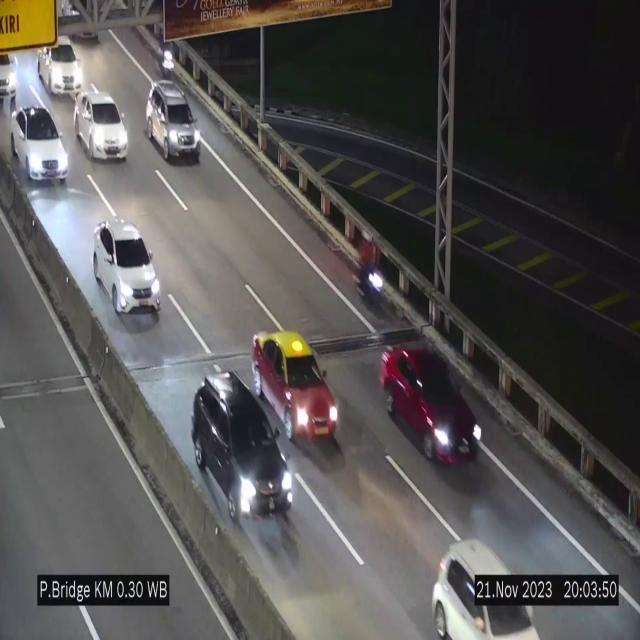Car: (415, 514, 549, 640), (186, 378, 290, 526), (379, 348, 484, 470), (253, 330, 339, 450), (94, 219, 160, 316), (12, 105, 70, 188), (146, 81, 200, 161), (37, 26, 89, 105), (74, 90, 128, 160), (0, 38, 28, 108)
Motorcycle: (356, 227, 382, 304), (160, 29, 176, 87)
